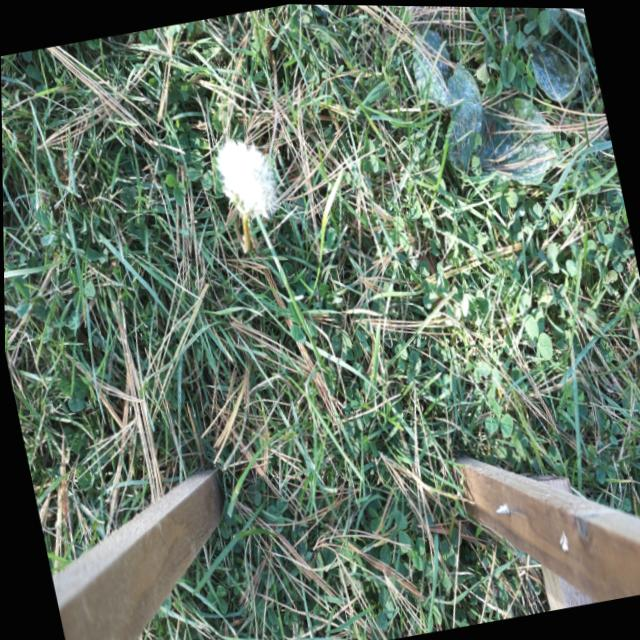base: (222, 203, 246, 234)
